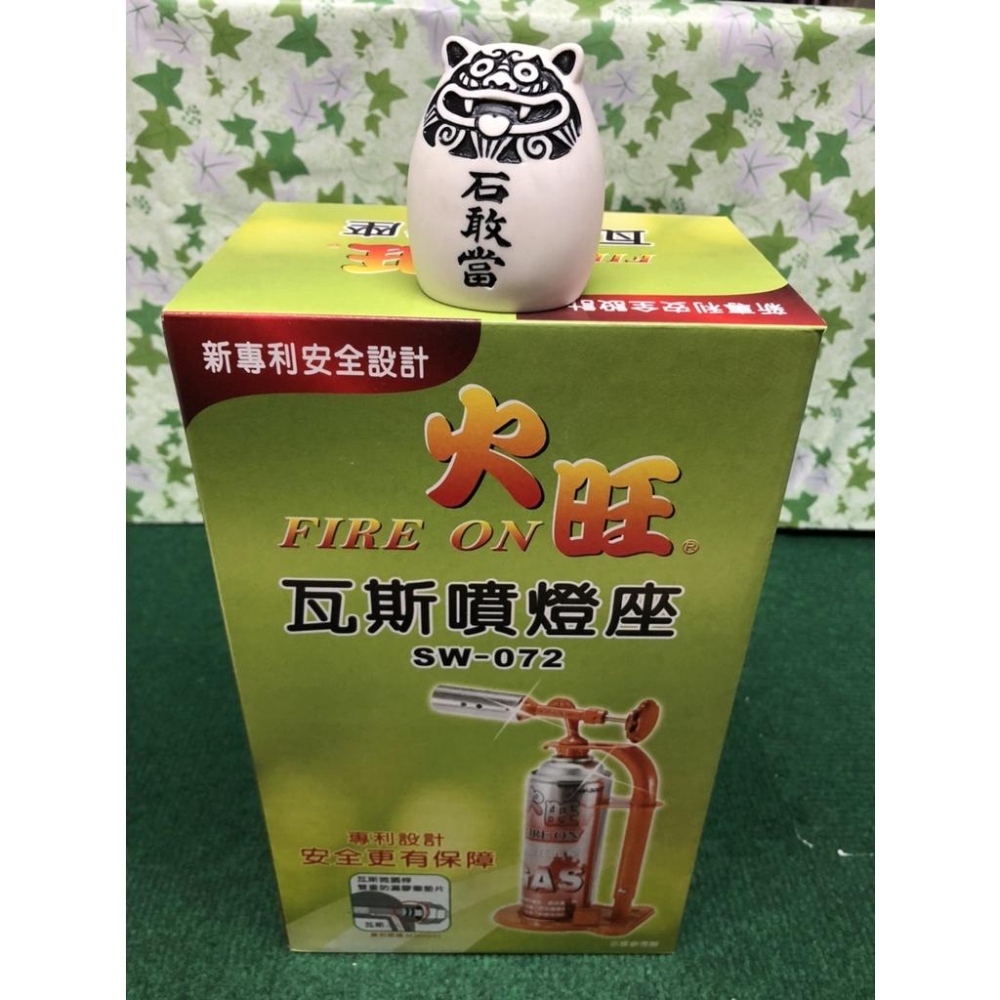gastorch: (432, 675, 662, 950)
